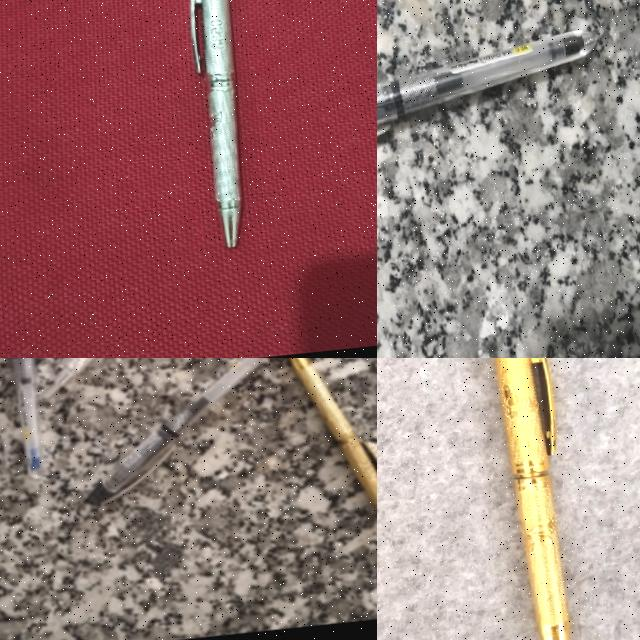pen: (86, 358, 265, 504), (377, 31, 596, 136), (0, 358, 59, 484)
signature pen: (492, 358, 572, 640), (287, 358, 377, 542), (190, 0, 241, 247)
